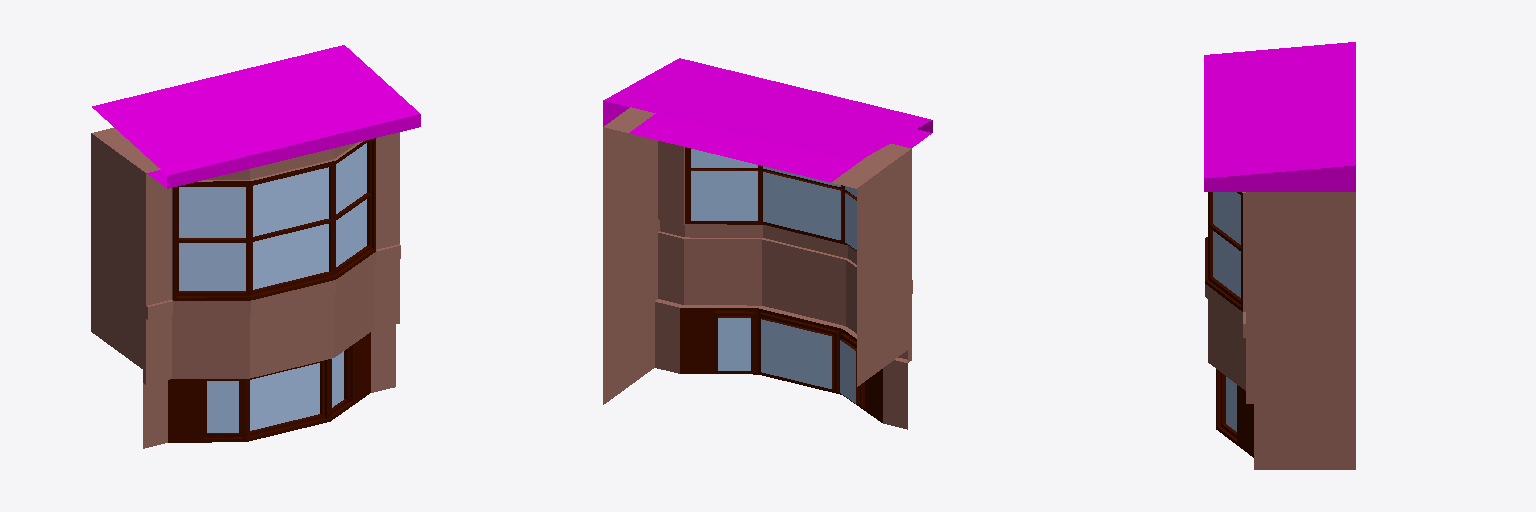
Rendered from FrontWindowTest.obj.
The picture shows the model from 3 angles: view 1: azimuth 30°, elevation 25°; view 2: azimuth 150°, elevation 25°; view 3: azimuth 270°, elevation 25°; orthographic projection.
Visible parts, largest first — view 1: BayWindow; view 2: BayWindow; view 3: BayWindow.
Part boxes in pixels (x1,y1,x2,y2): BayWindow: (91, 45, 420, 448); BayWindow: (603, 58, 932, 429); BayWindow: (1204, 42, 1355, 469).
Size of the model in its own units: 160 by 184 by 83.42.